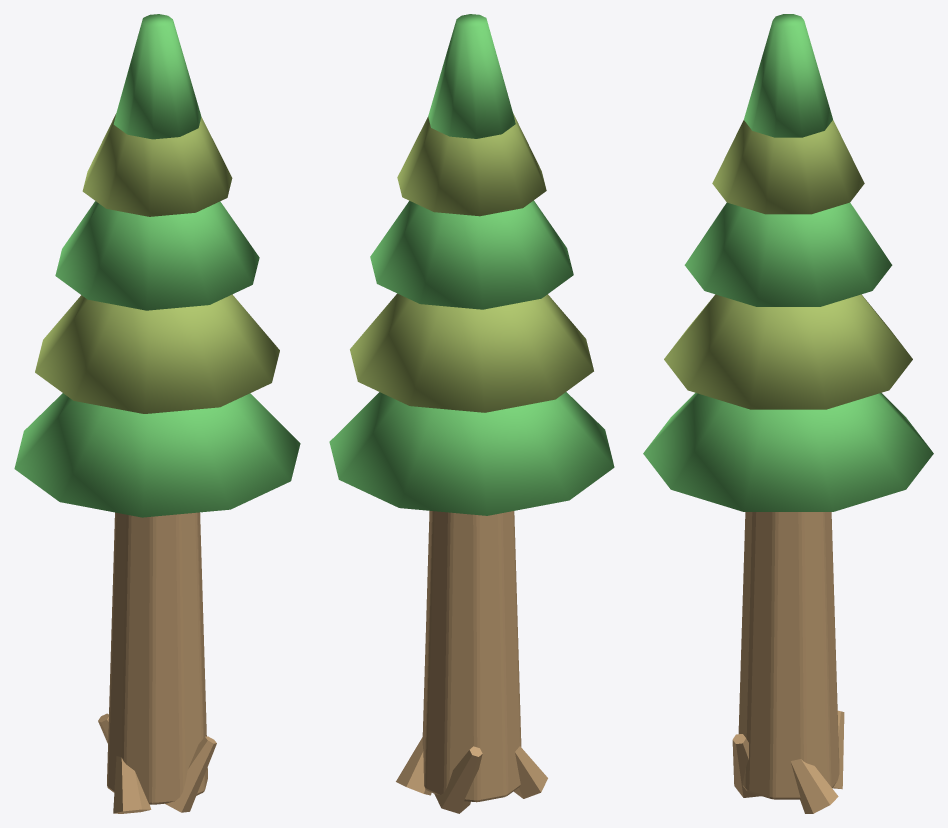
File: Redwood.fbx
3 views of the same model, side by side, from view 1: azimuth 30°, elevation 25°; view 2: azimuth 150°, elevation 25°; view 3: azimuth 270°, elevation 25° (orthographic).
Visible parts, largest first — view 1: Leaves, Leaves2, Trunk; view 2: Leaves, Leaves2, Trunk; view 3: Leaves, Leaves2, Trunk.
Boxes of the visible parts, x1,y1,x2,y2 form: Leaves: (14, 14, 300, 517); Leaves2: (35, 113, 279, 413); Trunk: (98, 512, 216, 813); Leaves: (329, 14, 614, 515); Leaves2: (350, 113, 593, 412); Trunk: (396, 510, 547, 813); Leaves: (643, 14, 933, 511); Leaves2: (664, 120, 912, 409); Trunk: (732, 512, 844, 813).
Size of the model in its own units: 7.99 by 24.62 by 8.4.
